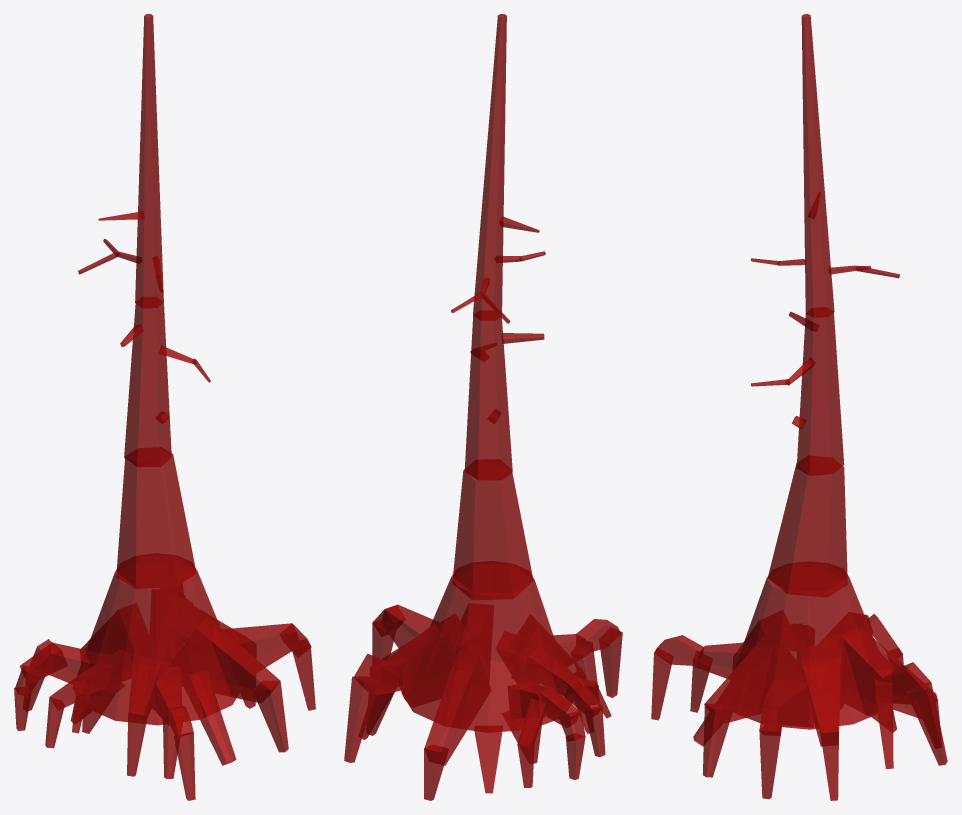
Rendered from SM_Env_Tree_Dead_02_Collision.fbx.
The picture shows the model from 3 angles, left to right: view 1: azimuth 30°, elevation 25°; view 2: azimuth 150°, elevation 25°; view 3: azimuth 270°, elevation 25°; orthographic projection.
Visible parts, largest first — view 1: SM_Env_Tree_Dead_02_Collision; view 2: SM_Env_Tree_Dead_02_Collision; view 3: SM_Env_Tree_Dead_02_Collision.
Part boxes in pixels (x1,y1,x2,y2): SM_Env_Tree_Dead_02_Collision: (14,14,315,800); SM_Env_Tree_Dead_02_Collision: (344,14,622,800); SM_Env_Tree_Dead_02_Collision: (651,14,947,800).
Bounding box in the file's own units: 506 × 1394 × 513.
